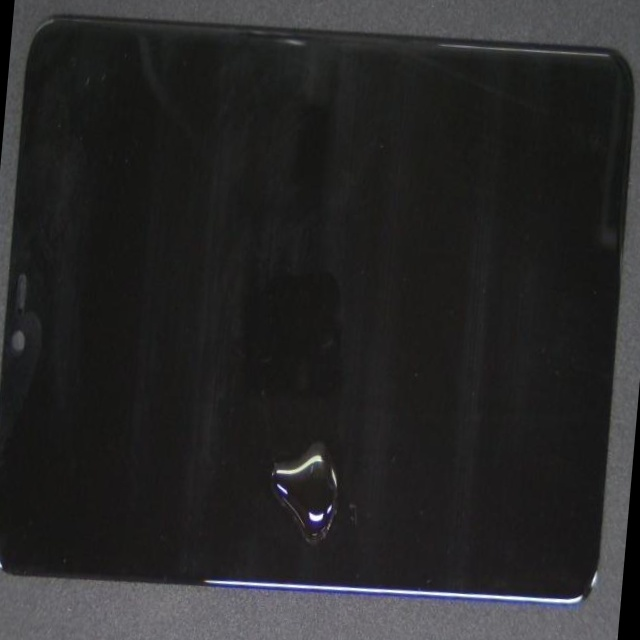oil: (155, 211, 538, 640)
